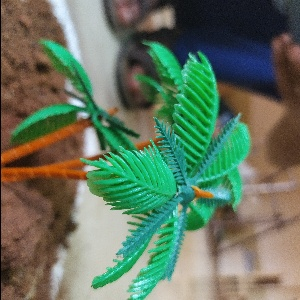plant: (1, 39, 251, 300)
